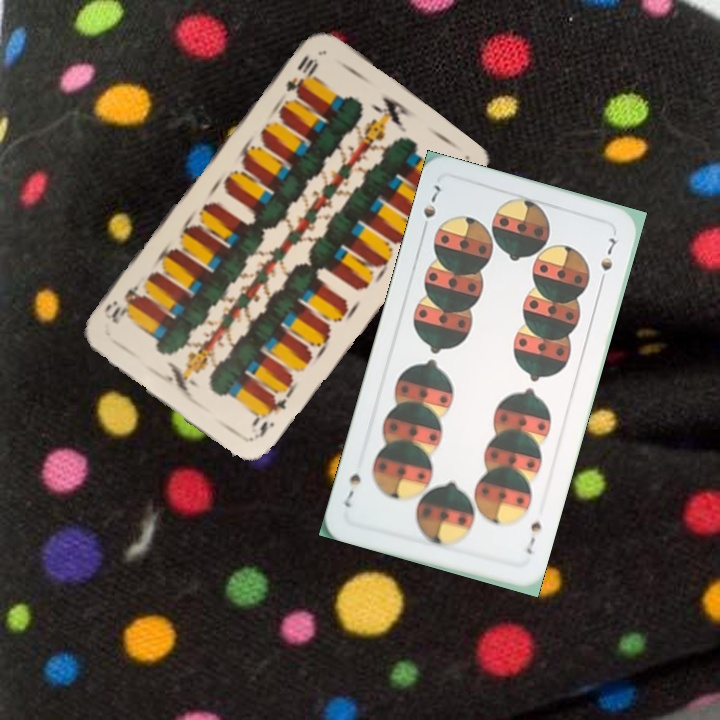E10: (246, 391, 290, 442), (282, 51, 321, 99)
S7: (418, 180, 444, 236), (522, 517, 544, 557)
